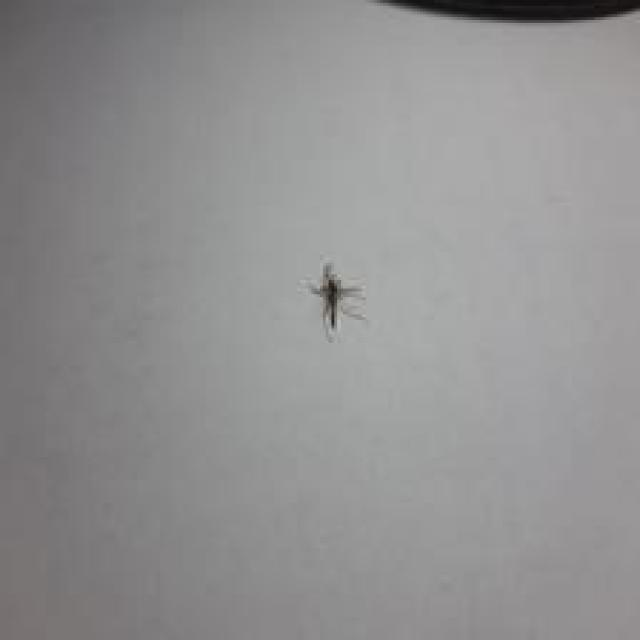Culex: (307, 262, 367, 338)
